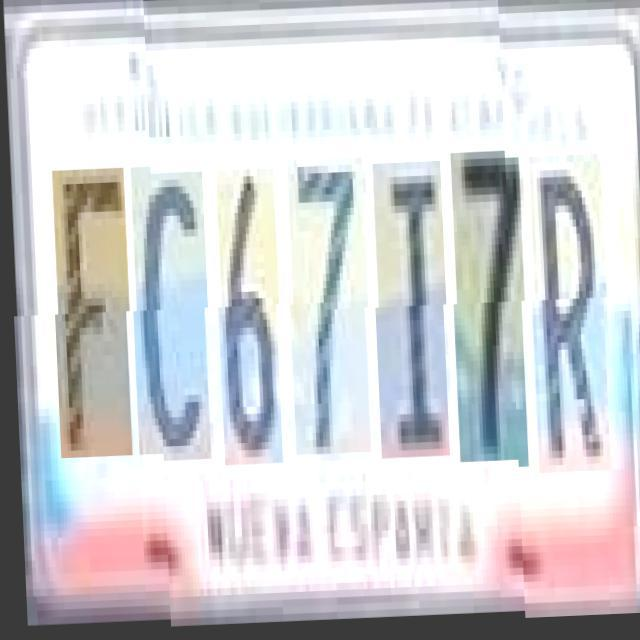6: (214, 170, 282, 467)
7: (285, 160, 370, 458), (448, 155, 528, 466)
C: (129, 173, 211, 463)
F: (51, 175, 132, 466)
I: (371, 165, 449, 462)
R: (526, 152, 610, 471)
